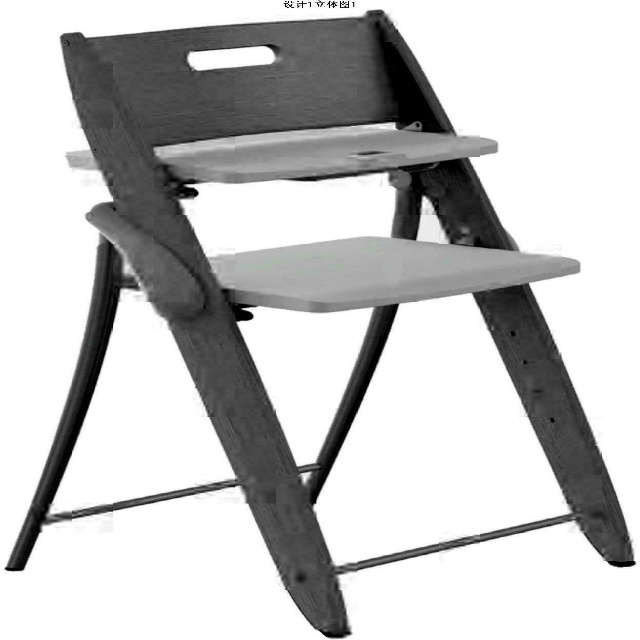obstacle: (3, 0, 637, 558), (3, 488, 325, 640), (339, 523, 636, 640)
